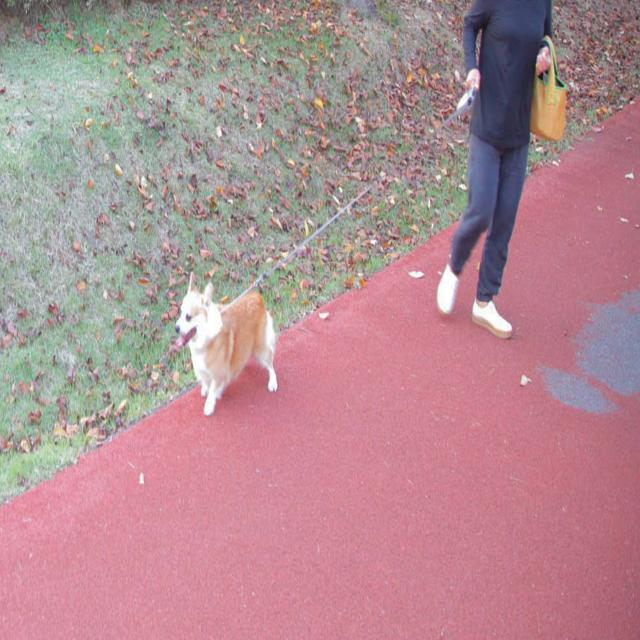Leashed_Dog: (175, 76, 512, 416)
